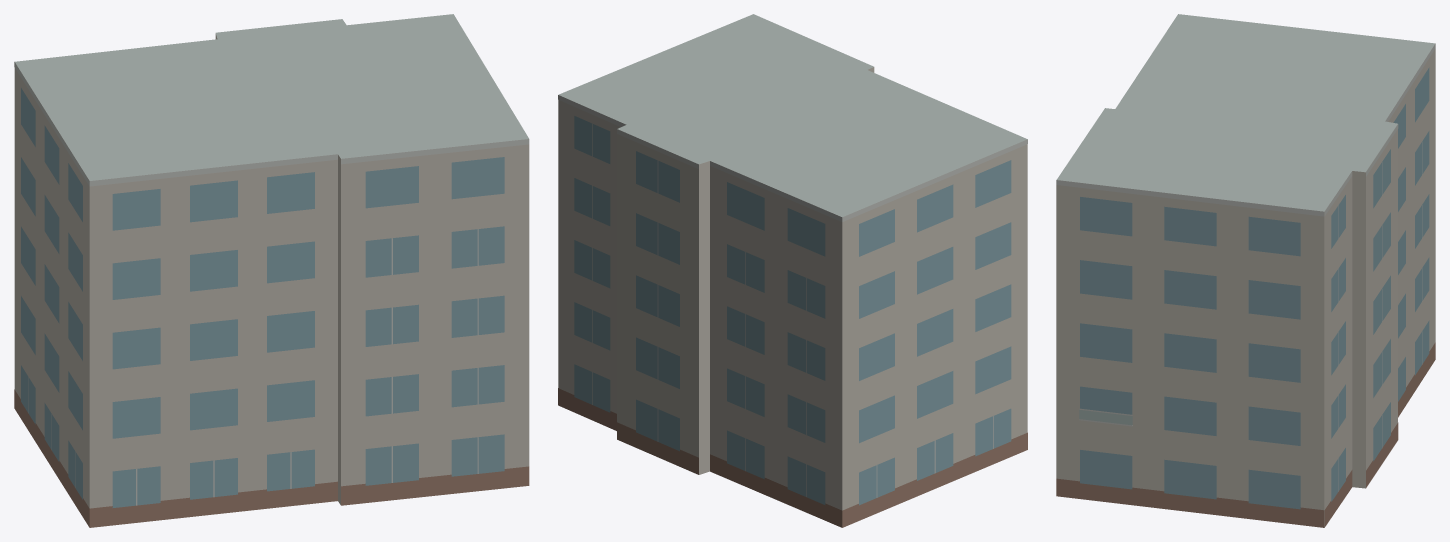
Rendered from survey-upis-32736797.glb.
3 renders of one model, left to right at view 1: azimuth 30°, elevation 25°; view 2: azimuth 150°, elevation 25°; view 3: azimuth 270°, elevation 25°, orthographic. The views are drawn at different scales.
Parts seen in each view (by area): view 1: survey-upis-32736797.tmp; view 2: survey-upis-32736797.tmp; view 3: survey-upis-32736797.tmp.
Part boxes in pixels (x1,y1,x2,y2): survey-upis-32736797.tmp: [14, 14, 529, 527]; survey-upis-32736797.tmp: [558, 14, 1027, 527]; survey-upis-32736797.tmp: [1056, 14, 1435, 527].
Size of the model in its own units: 20.78 by 15.5 by 16.85.
